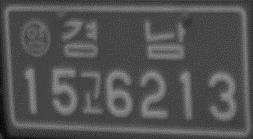1: (177, 69, 199, 121), (20, 67, 41, 115)
2: (139, 68, 171, 122)
3: (207, 69, 237, 123)
5: (50, 67, 78, 115)
6: (104, 67, 134, 119)
경남_D: (60, 18, 187, 61)
고: (78, 69, 104, 115)
영: (20, 19, 52, 59)
